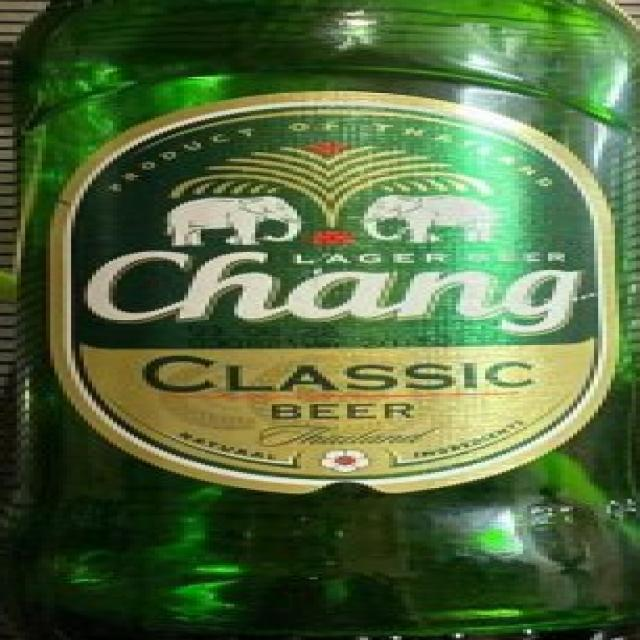Chang Classic: (4, 0, 640, 640)
